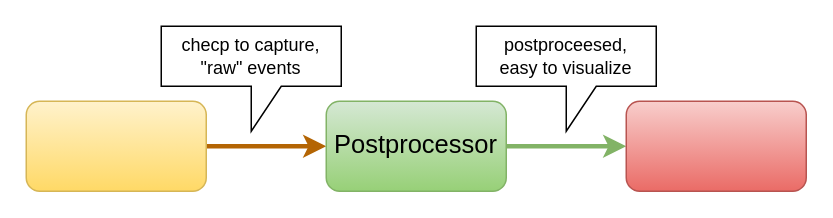
Image size: 833x218. Some labels were removed from this diagram. The shapes that lost their labels are listed below. From the top down, each one's box as (x1, y1, x2, y2) in pixels, then its label:
(25, 100, 206, 191): App
(625, 100, 806, 191): Visualization
